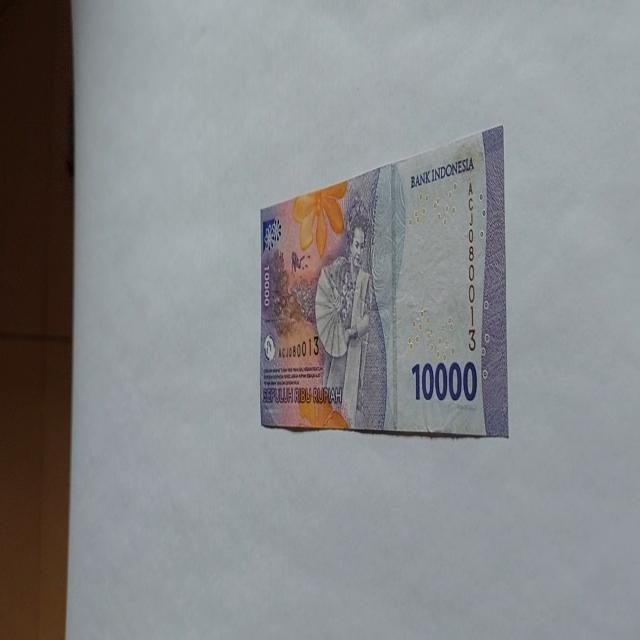sepuluh ribu rupiah: (258, 124, 508, 438), (314, 208, 388, 430)
